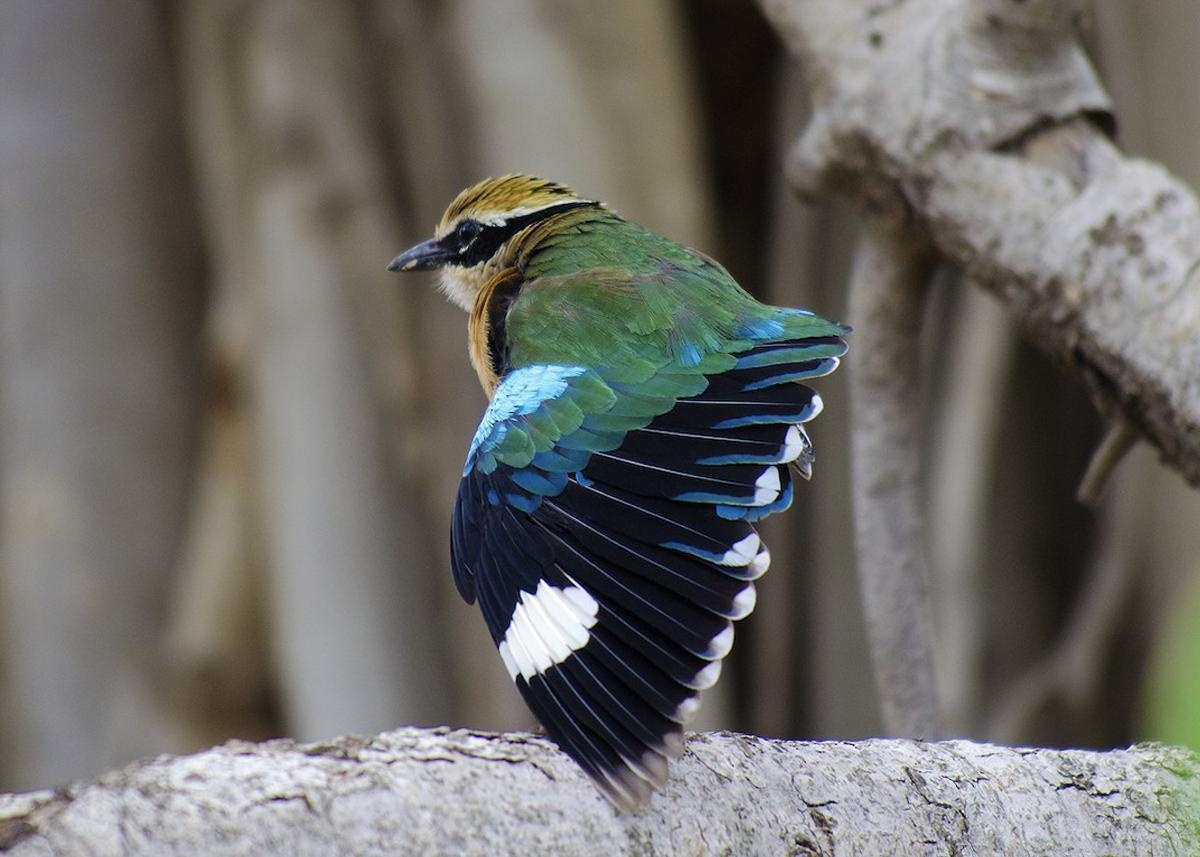pitta: (344, 145, 855, 803)
